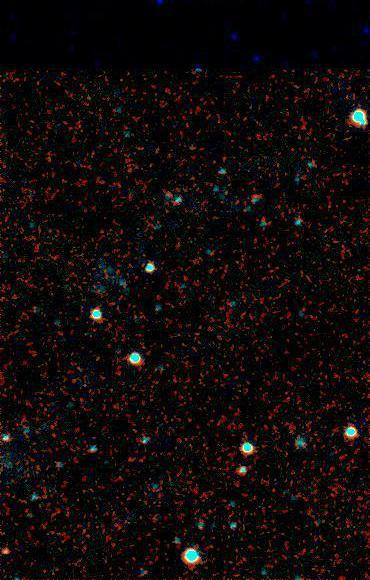star: (0, 534, 24, 564)
